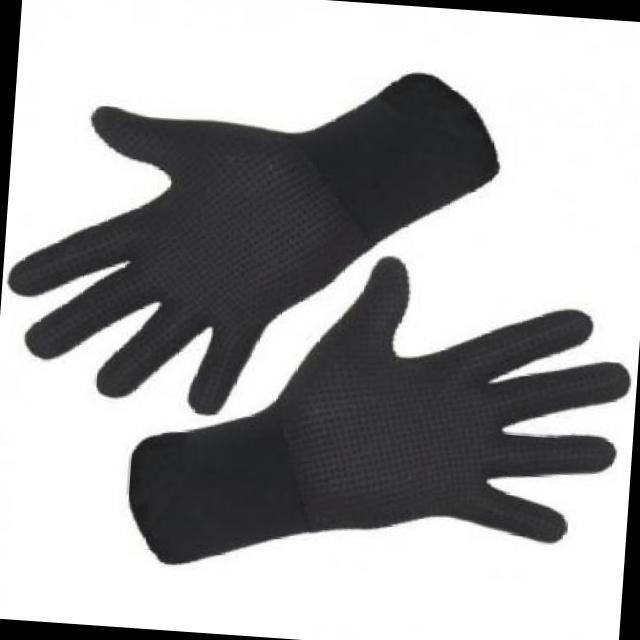gloved_hand: (3, 48, 501, 425), (113, 233, 621, 597)
